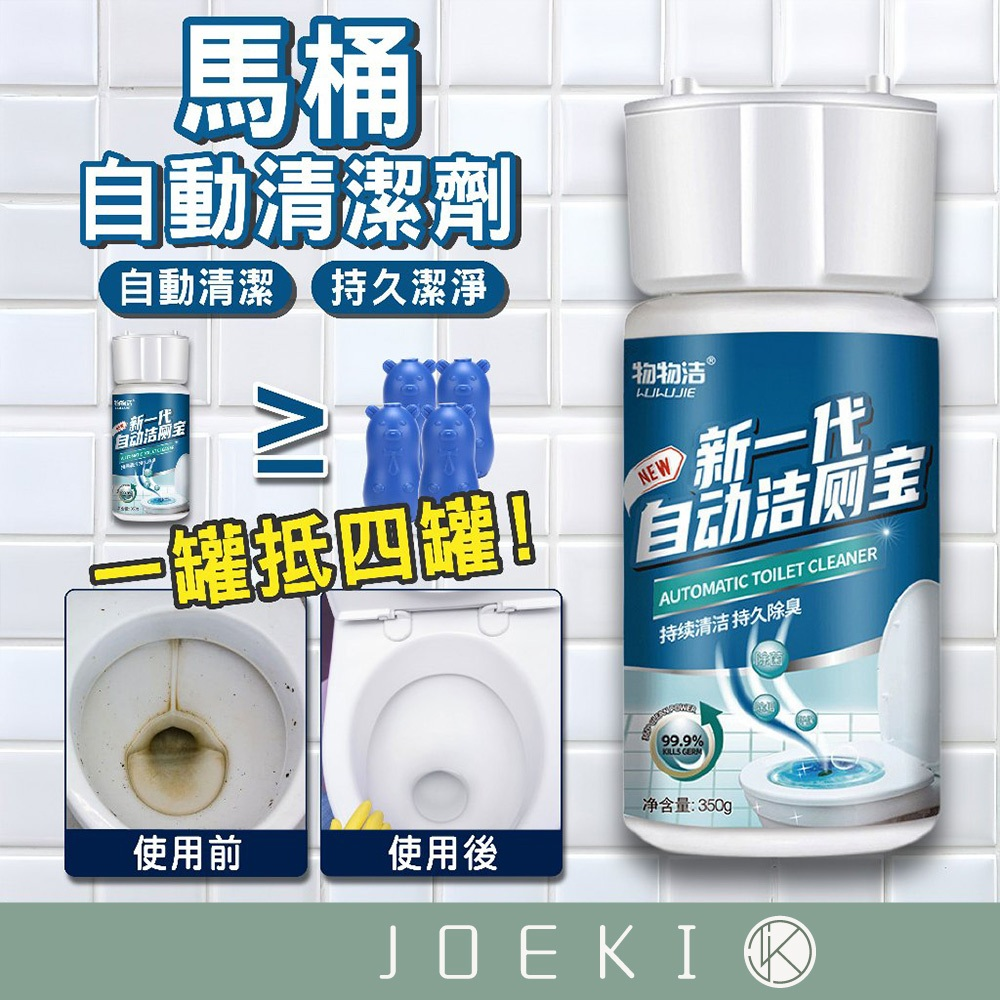cleaner: (594, 67, 968, 868), (90, 328, 200, 522)
